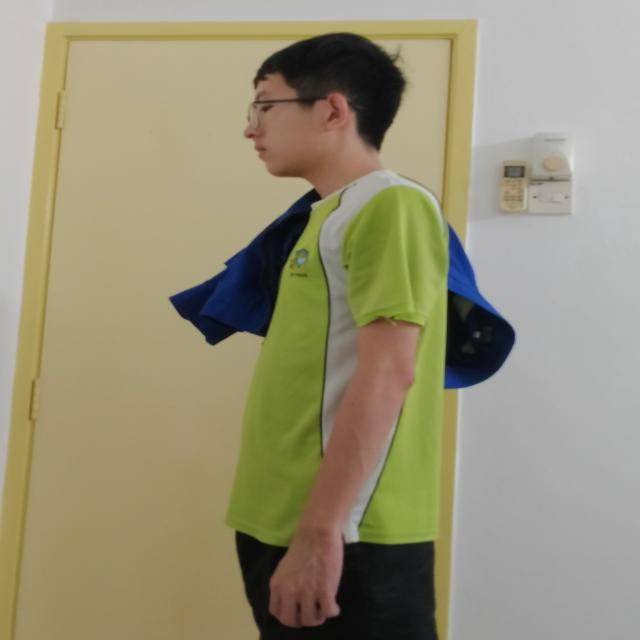person_without_labcoat: (172, 34, 513, 640)
